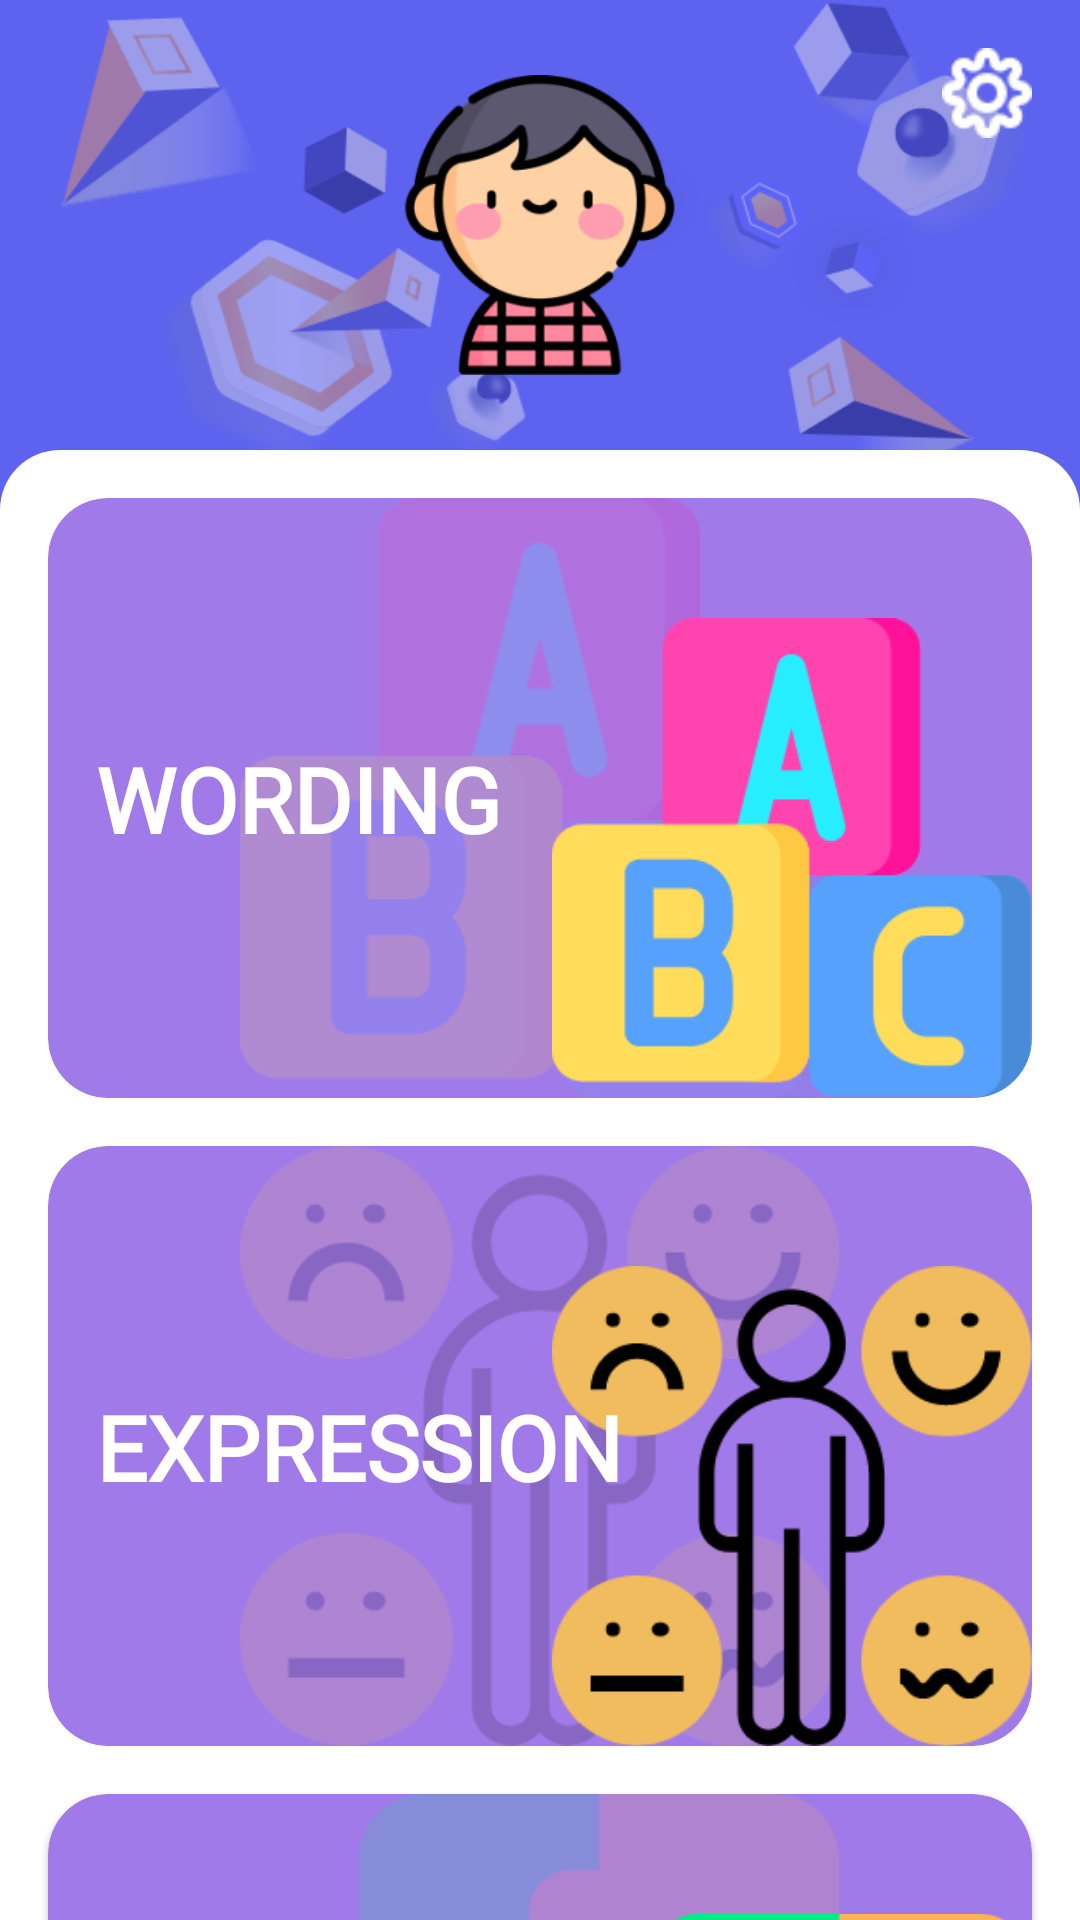

Icon bounding boxes for this 1080px x 1920px phone screenshot, format box=[x1, y1, x2, y2]:
boy: box=[390, 75, 675, 375]
settings: box=[942, 48, 1032, 138]
